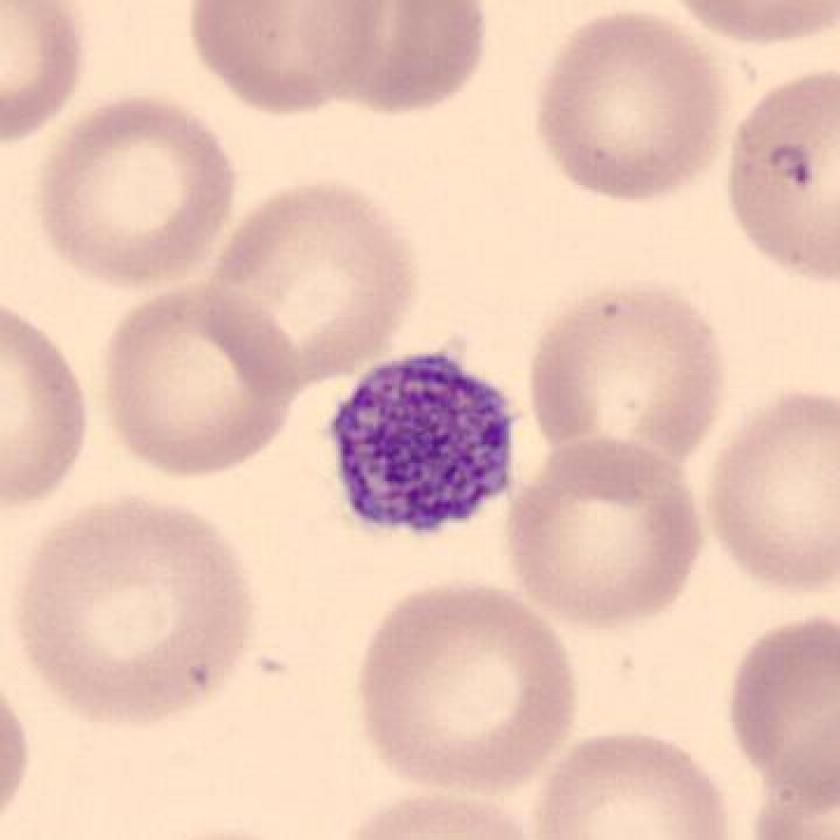platelets: (318, 339, 533, 547)
